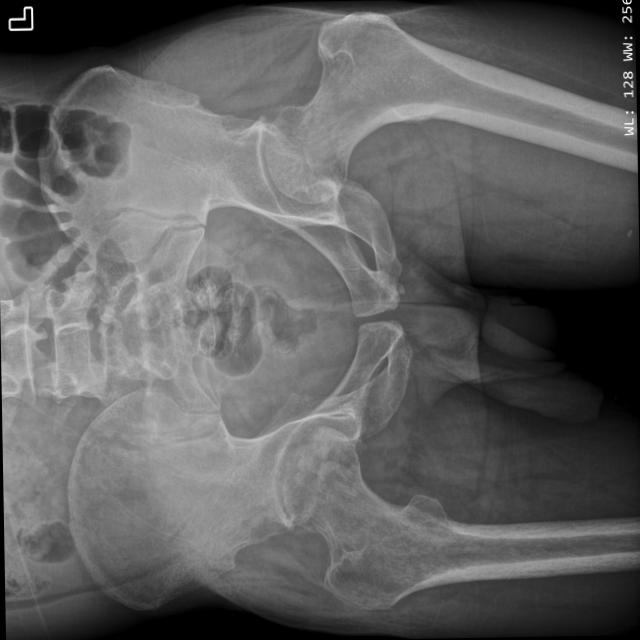normal-left: (265, 11, 549, 202)
normal-right: (282, 426, 527, 608)
